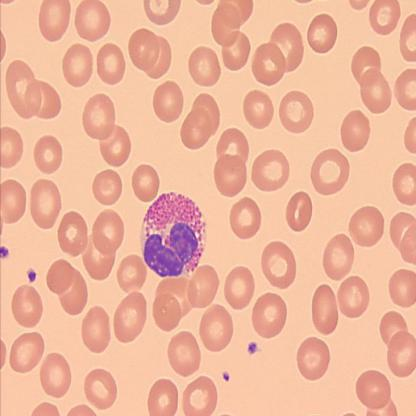Eosinophil: (142, 190, 205, 277)
